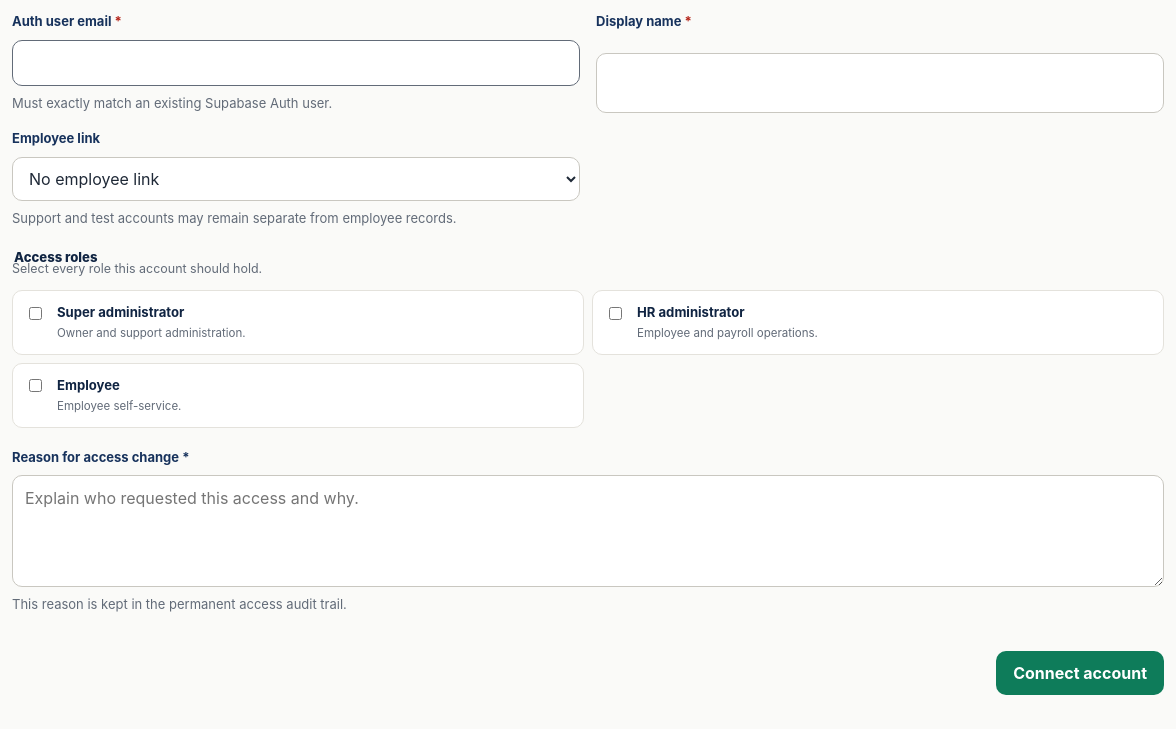
it: UserAccessForm › requires an exact email, display name, role, and audit reason
Click the button "Connect account": (1080, 673) [996,651,1164,695]
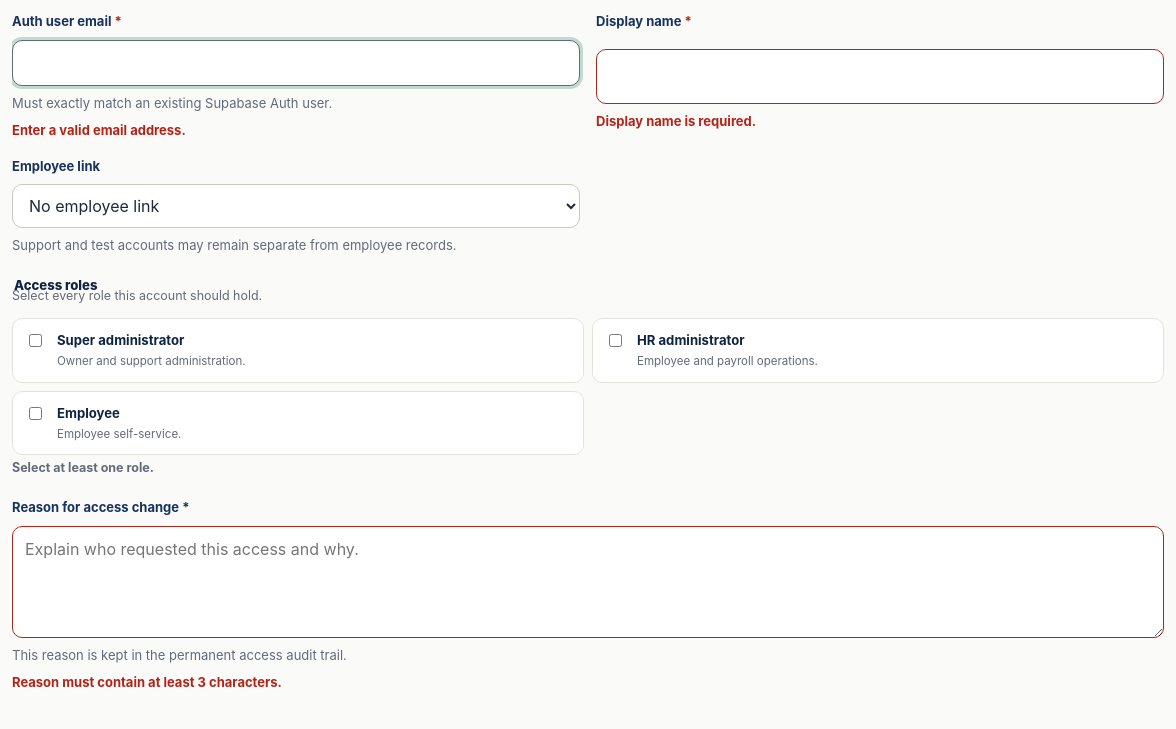
Expected: the text "Enter a valid email address." is shown, [12,122,186,138]
Expected: the text "Display name is required." is shown, [596,113,756,129]
Expected: the text "Select at least one role." is shown, [12,460,154,475]
